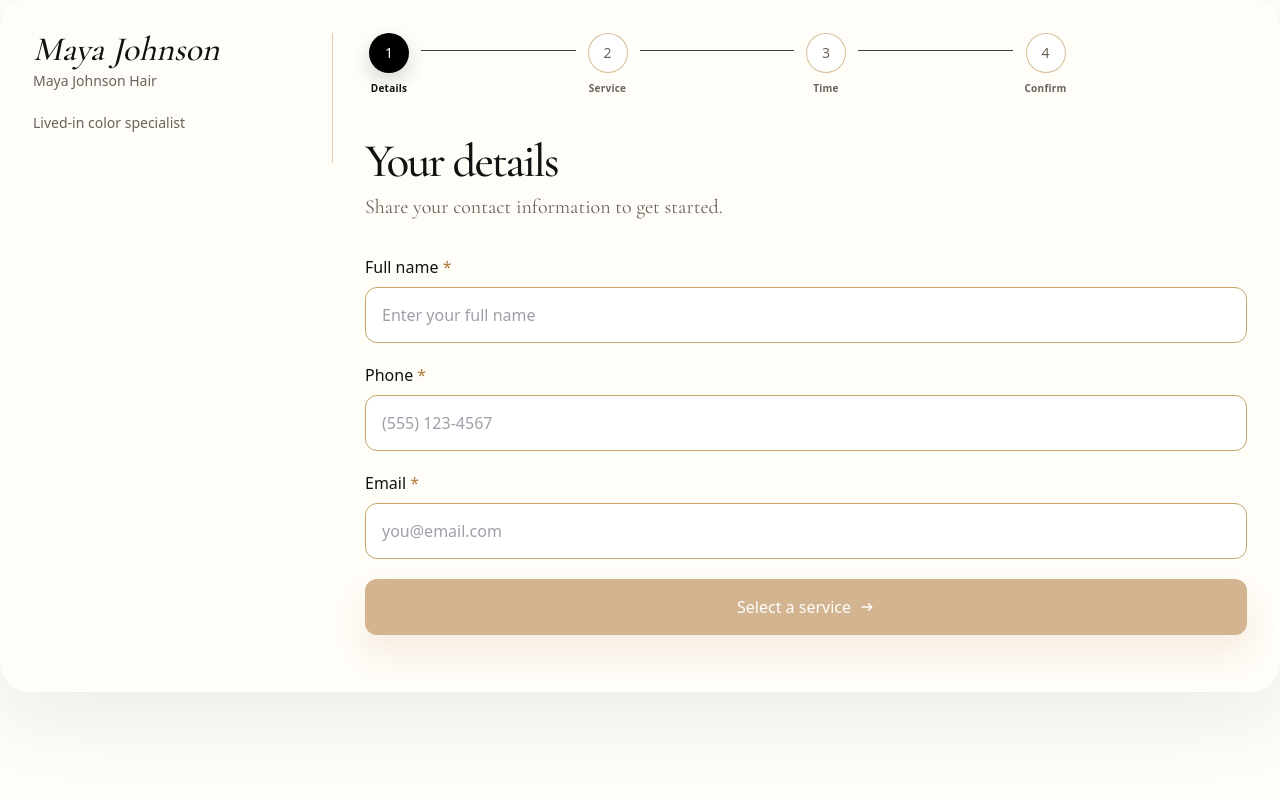
Test: BookingFlow › stops when intake reports booking disabled
Type "Jane Smith" into the field with placeholder "Enter your full name". click: (806, 315)
box: x1=365 y1=287 x2=1247 y2=343
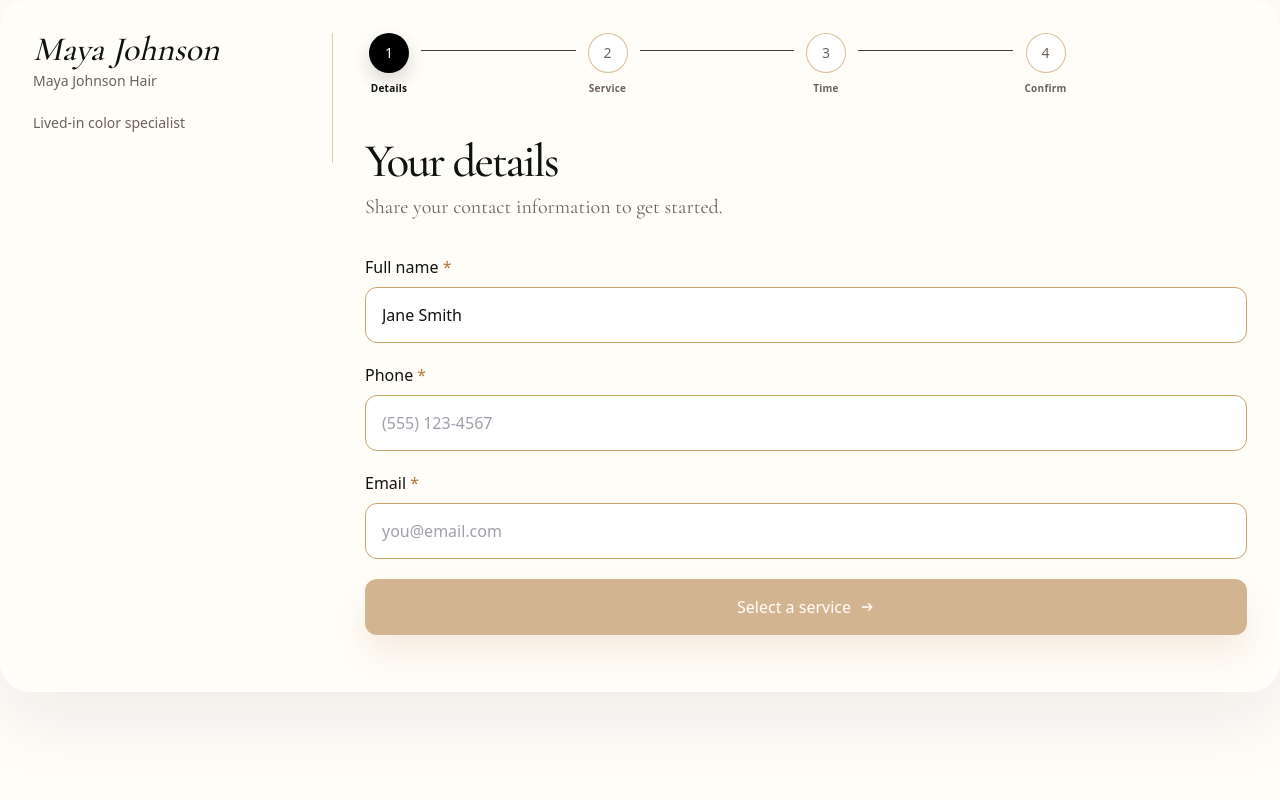
Type "(720) 555-0103" into the field with placeholder "(555) 123-4567". click: (806, 423)
box: x1=365 y1=395 x2=1247 y2=451
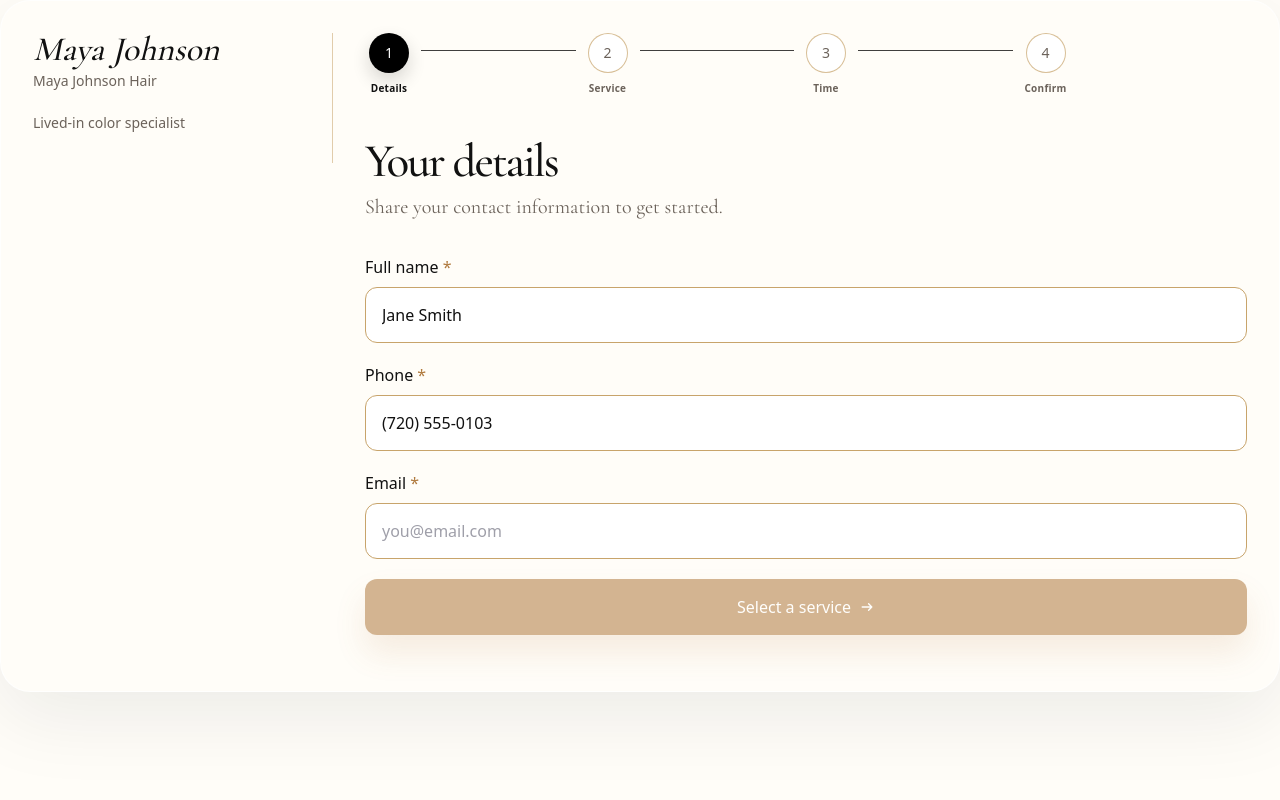
Type "jane@example.com" into the field with placeholder "you@email.com". click: (806, 531)
box: x1=365 y1=503 x2=1247 y2=559
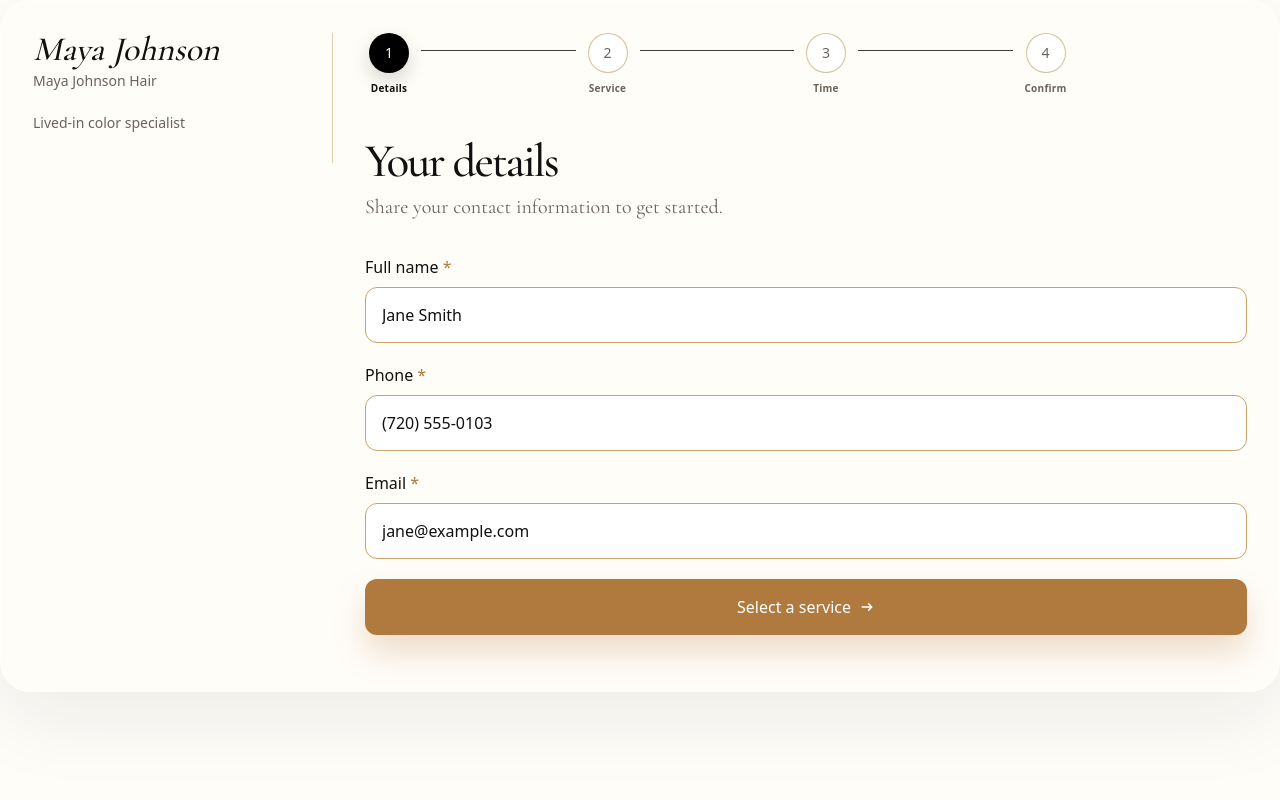
Click the button "Select a service". click: (806, 607)
box: x1=365 y1=579 x2=1247 y2=635
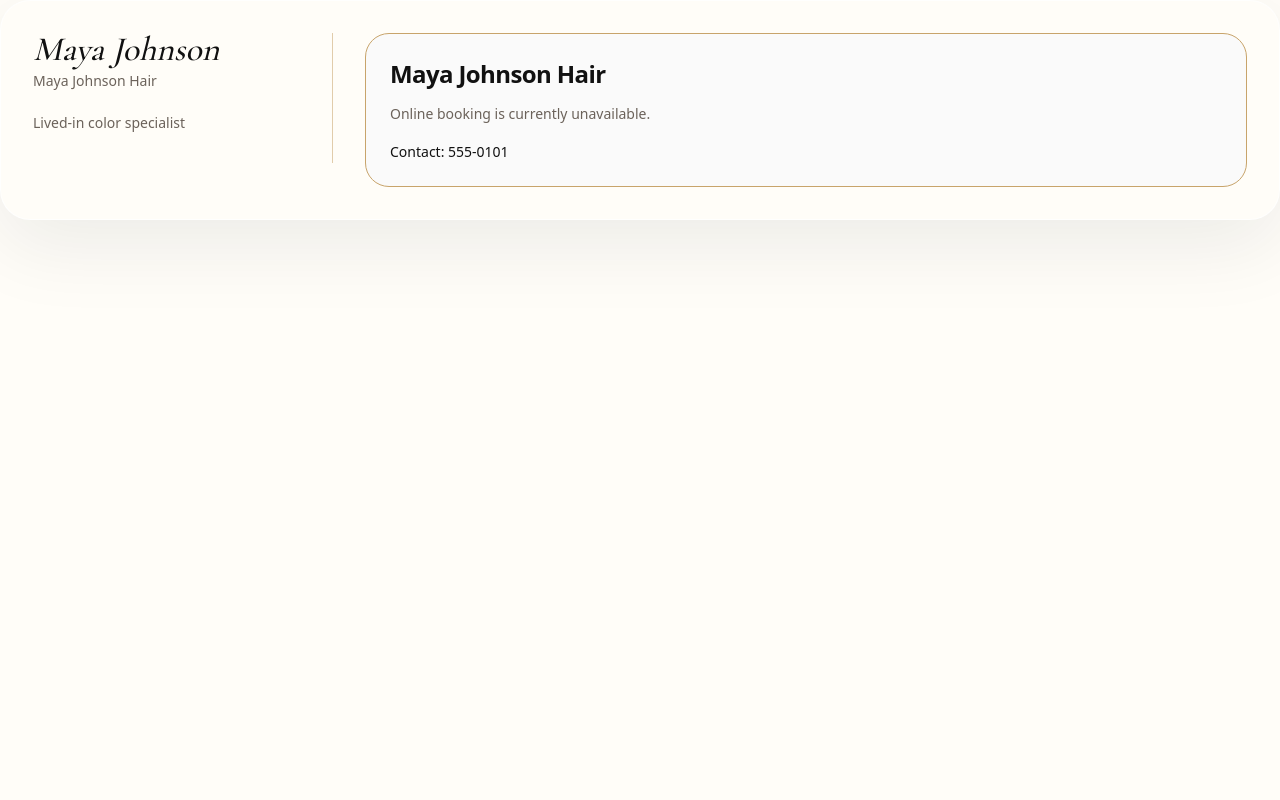
Expected: the text "Online booking is currently unavailable." is shown, x1=390 y1=104 x2=650 y2=123
